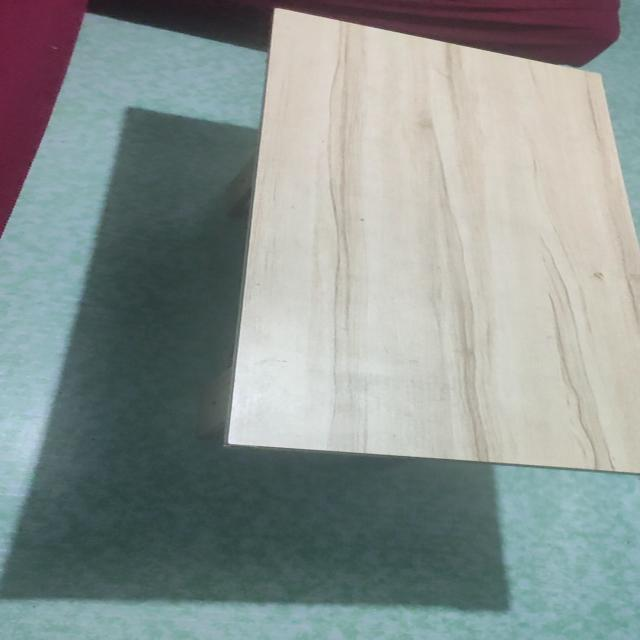table: (166, 6, 640, 493)
